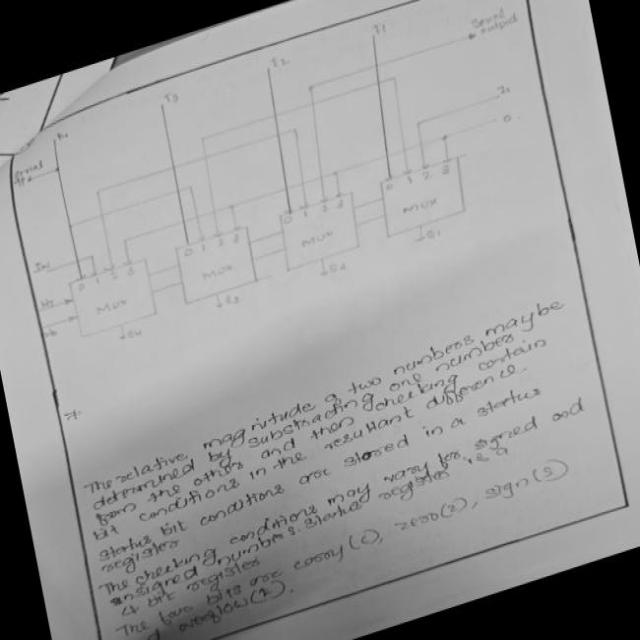Figure Detection - v3 Dataset Version2: (0, 0, 563, 374)
